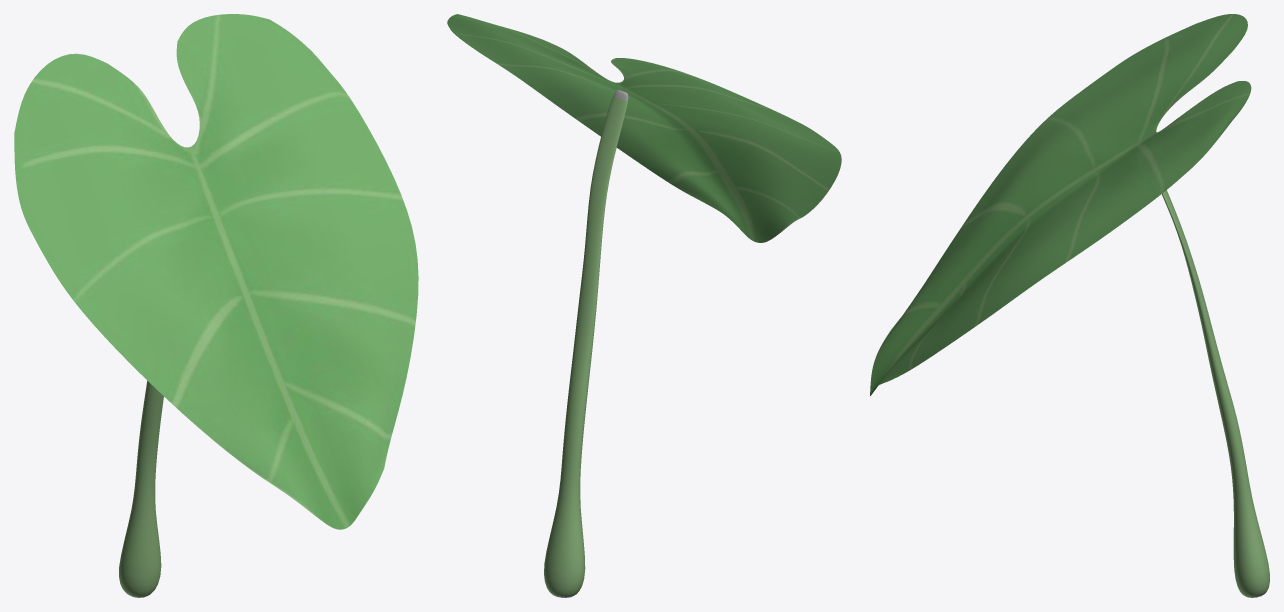
The model's file is SM_FeuilleTaroHighPoly_Hiro.fbx.
3 renders of one model, left to right at view 1: azimuth 30°, elevation 25°; view 2: azimuth 150°, elevation 25°; view 3: azimuth 270°, elevation 25°, orthographic. The views are drawn at different scales.
Visible parts, largest first — view 1: SM_FeuilleTaro, SM_TigeTaro; view 2: SM_FeuilleTaro, SM_TigeTaro; view 3: SM_FeuilleTaro, SM_TigeTaro.
Boxes of the visible parts, left/top/right/bottom form: SM_FeuilleTaro: left=14, top=14, right=418, bottom=529; SM_TigeTaro: left=119, top=381, right=163, bottom=597; SM_FeuilleTaro: left=447, top=14, right=841, bottom=242; SM_TigeTaro: left=544, top=90, right=628, bottom=597; SM_FeuilleTaro: left=870, top=14, right=1251, bottom=395; SM_TigeTaro: left=1161, top=190, right=1269, bottom=597.
Bounding box in the file's own units: 16.92 × 26.1 × 17.6.
Materials: 2 (1 with a texture image).
